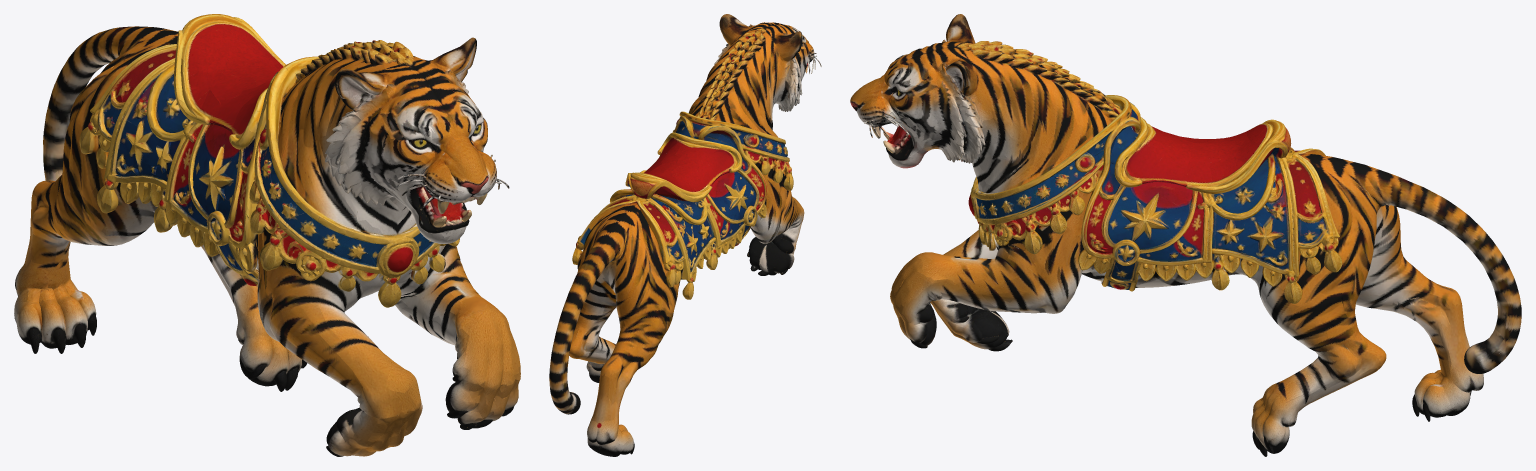
Rendered from tiger.glb.
3 renders of one model, left to right at view 1: azimuth 30°, elevation 25°; view 2: azimuth 150°, elevation 25°; view 3: azimuth 270°, elevation 25°, orthographic. The views are drawn at different scales.
Bounding box in the file's own units: 0.5112 × 1.23 × 1.9.
Materials: 1 (1 with a texture image).
